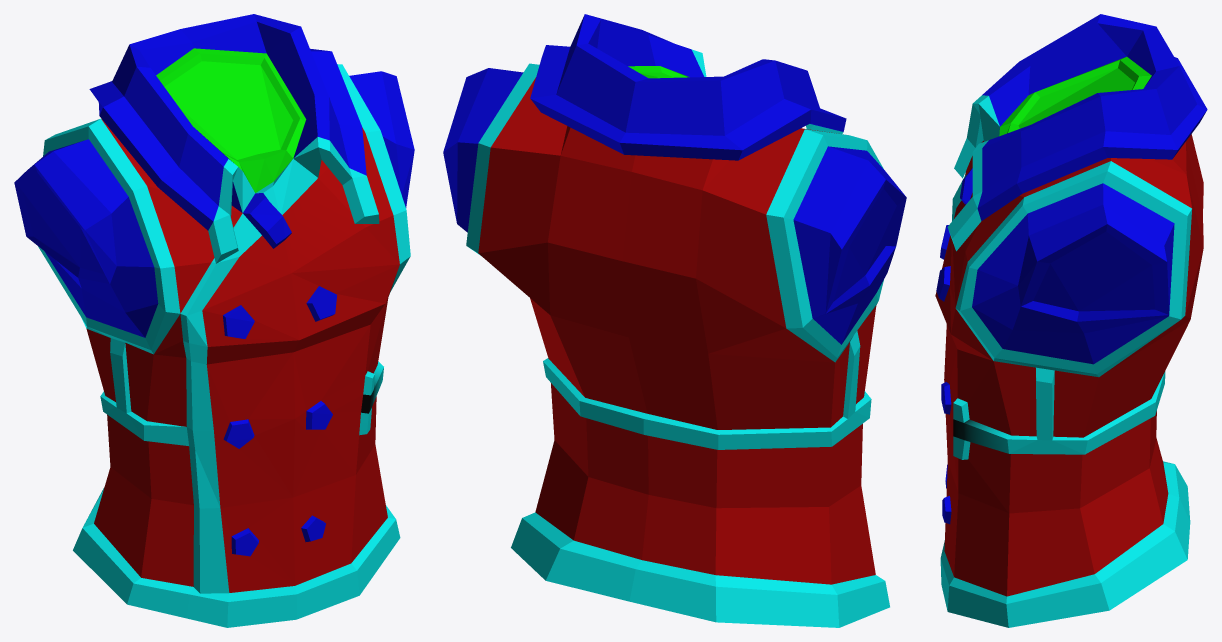
File: Chr_Torso_Male_Static_04.fbx
3 renders of one model, left to right at view 1: azimuth 30°, elevation 25°; view 2: azimuth 150°, elevation 25°; view 3: azimuth 270°, elevation 25°, orthographic. The views are drawn at different scales.
Parts seen in each view (by area): view 1: Chr_Torso_Male_04; view 2: Chr_Torso_Male_04; view 3: Chr_Torso_Male_04.
Boxes of the visible parts, box(x1,y1,x2,y2) form: Chr_Torso_Male_04: box(14, 14, 414, 627); Chr_Torso_Male_04: box(443, 14, 906, 627); Chr_Torso_Male_04: box(935, 14, 1207, 627).
Bounding box in the file's own units: 50.2 × 68.34 × 31.85.
